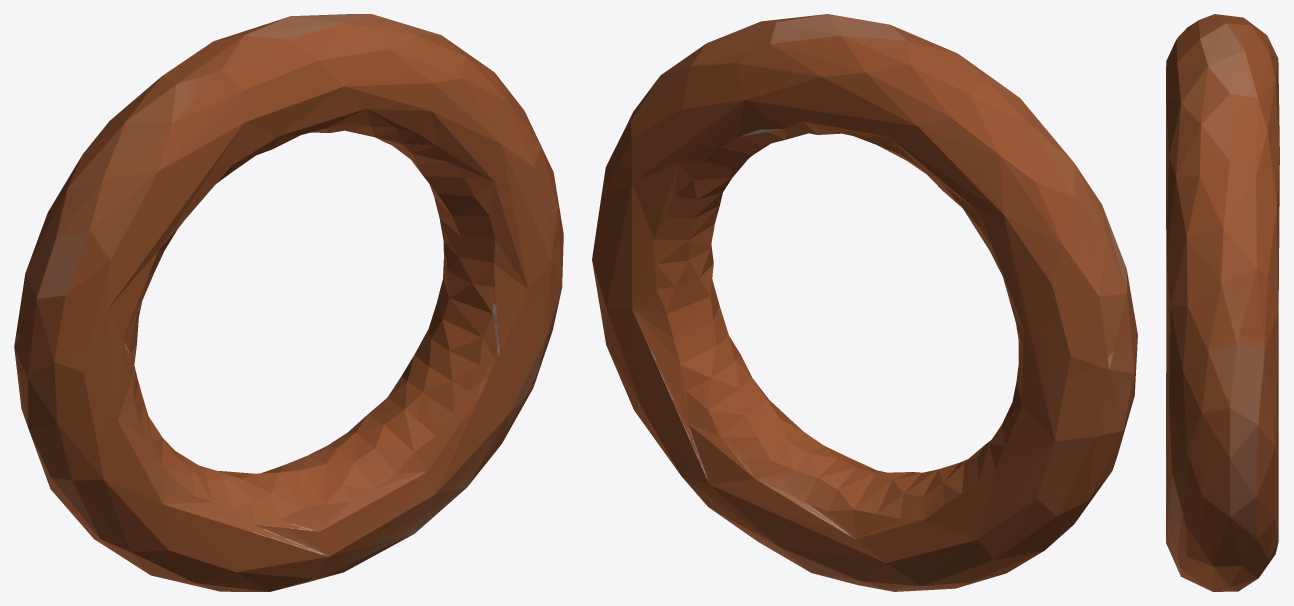
The model's file is net top.fbx.
3 renders of one model, left to right at view 1: azimuth 30°, elevation 25°; view 2: azimuth 150°, elevation 25°; view 3: azimuth 270°, elevation 25°, orthographic. The views are drawn at different scales.
Parts seen in each view (by area): view 1: Cube; view 2: Cube; view 3: Cube.
Part boxes in pixels (bbox=[...]): Cube: bbox=[14, 14, 563, 591]; Cube: bbox=[592, 14, 1137, 591]; Cube: bbox=[1166, 14, 1279, 591].
Size of the model in its own units: 936 by 928 by 184.
1 material, 1 textured.
